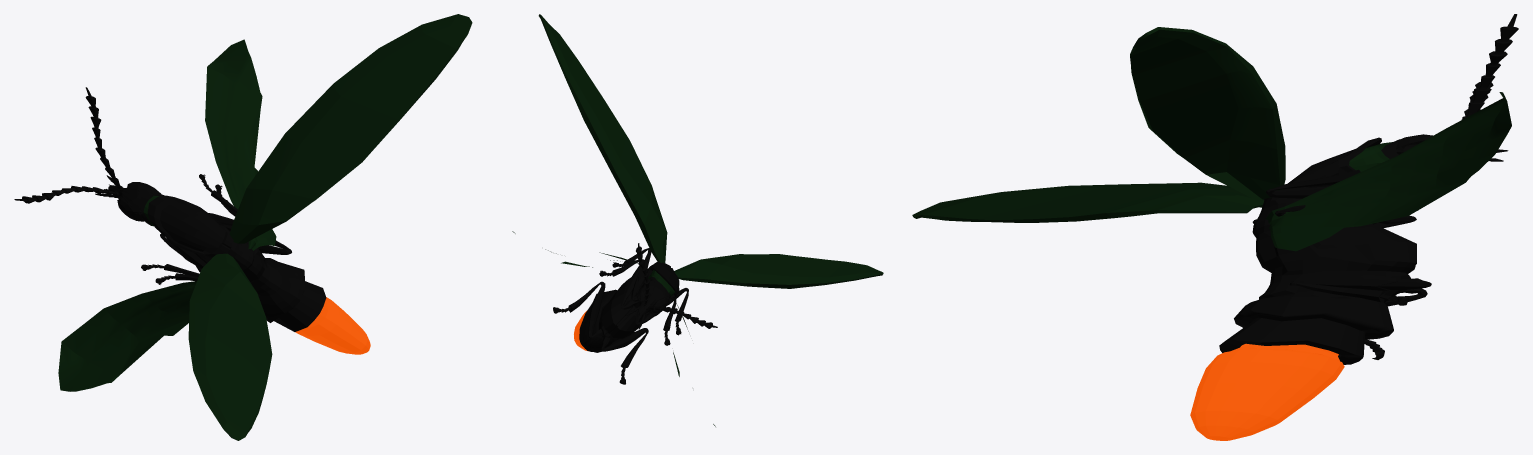
File: Firefly 4.glb
3 views of the same model, side by side, from view 1: azimuth 30°, elevation 25°; view 2: azimuth 150°, elevation 25°; view 3: azimuth 270°, elevation 25° (orthographic). The views are drawn at different scales.
Visible parts, largest first — view 1: firefly.018, firefly.015, firefly.016, firefly.017, firefly.019; view 2: firefly.015, firefly.018, firefly.016; view 3: firefly.015, firefly.018, firefly.019, firefly.016.
Part boxes in pixels (box(x1,y1,x2,y2)): firefly.018: box(229, 14, 472, 243); firefly.015: box(14, 87, 370, 354); firefly.016: box(188, 253, 272, 440); firefly.017: box(58, 281, 196, 391); firefly.019: box(205, 39, 276, 250); firefly.015: box(553, 243, 717, 384); firefly.018: box(538, 14, 667, 262); firefly.016: box(674, 254, 883, 288); firefly.015: box(1190, 14, 1518, 440); firefly.018: box(1130, 27, 1285, 201); firefly.019: box(1265, 92, 1511, 251); firefly.016: box(912, 182, 1264, 222).
Size of the model in its own units: 0.0977 by 0.1015 by 0.1121.
